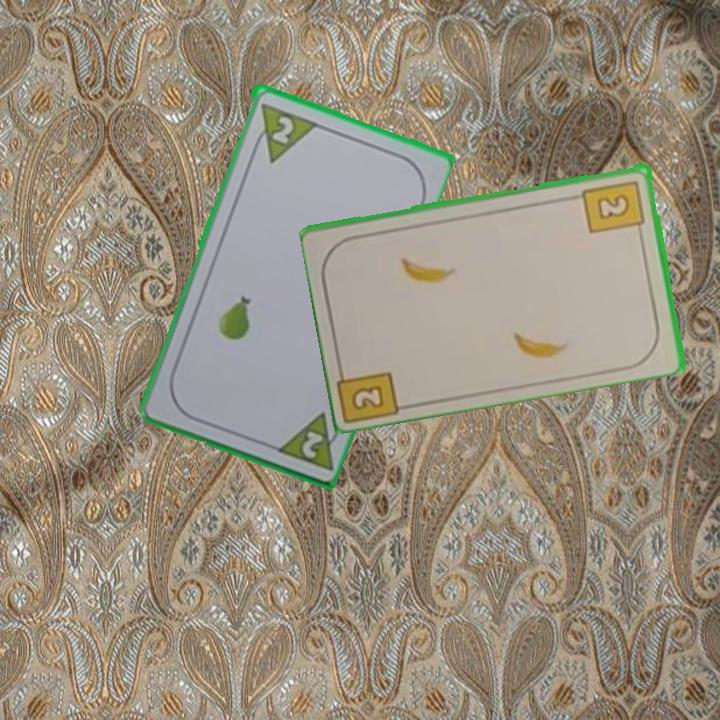2b: (334, 358, 405, 423), (580, 176, 648, 237)
2p: (269, 408, 346, 473), (246, 99, 318, 165)
